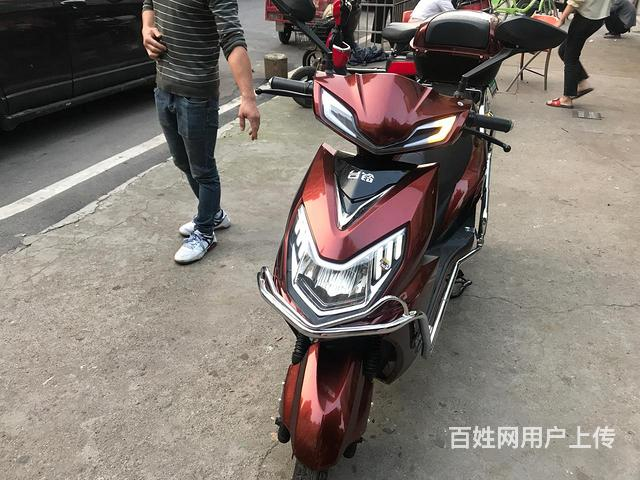电动车: (248, 1, 563, 477)
